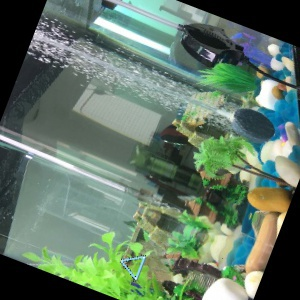triangle: (118, 254, 148, 282)
